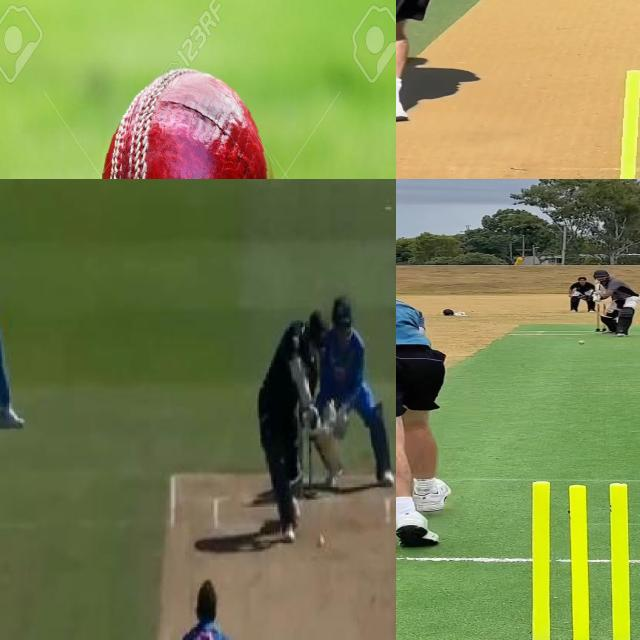Cricket ball: (102, 66, 279, 179), (315, 533, 326, 549), (576, 339, 588, 346)
Stumps: (505, 476, 640, 640), (596, 304, 610, 331)
